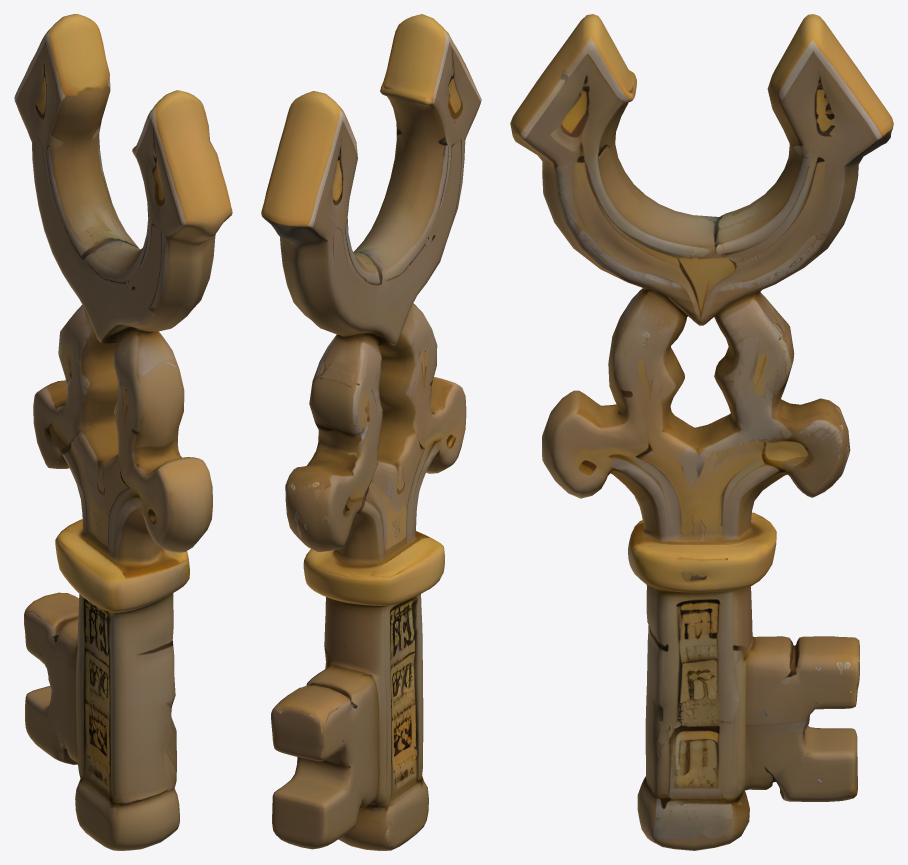
File: ornate+key+3d+model.obj
The picture shows the model from 3 angles, left to right: view 1: azimuth 30°, elevation 25°; view 2: azimuth 150°, elevation 25°; view 3: azimuth 270°, elevation 25°; orthographic projection. The views are drawn at different scales.
Parts seen in each view (by area): view 1: tripo_node_50201de3; view 2: tripo_node_50201de3; view 3: tripo_node_50201de3.
Part boxes in pixels (x1=…): tripo_node_50201de3: x1=14, y1=14, x2=232, y2=850; tripo_node_50201de3: x1=261, y1=14, x2=481, y2=850; tripo_node_50201de3: x1=510, y1=14, x2=893, y2=850.
Bounding box in the file's own units: 13.47 × 99.93 × 42.13.
Materials: 1 (1 with a texture image).
